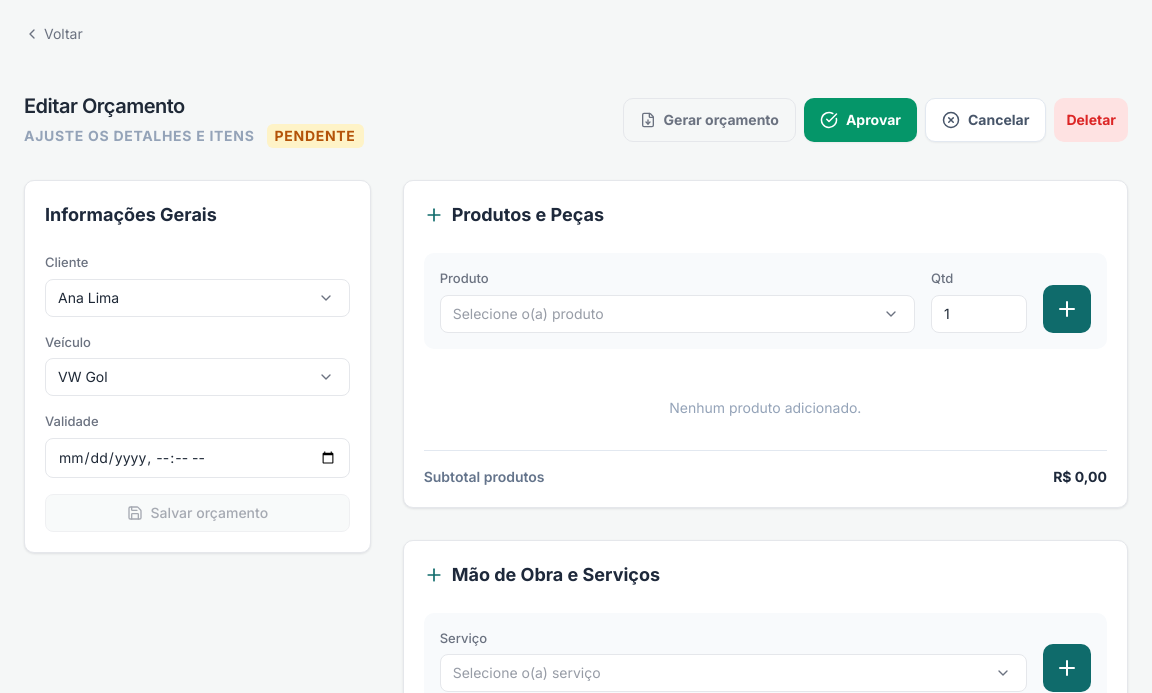
Test: <BudgetEdit> — aviso de estoque › no orçamento o aviso diz que nada é reservado ainda
The image size is (1152, 693).
Expected: the text "pendente" is shown, 266,124 -> 364,148
Click the dropdown with placeholder "Selecione o(a) produto" at (677, 314), box 440,294 -> 915,332
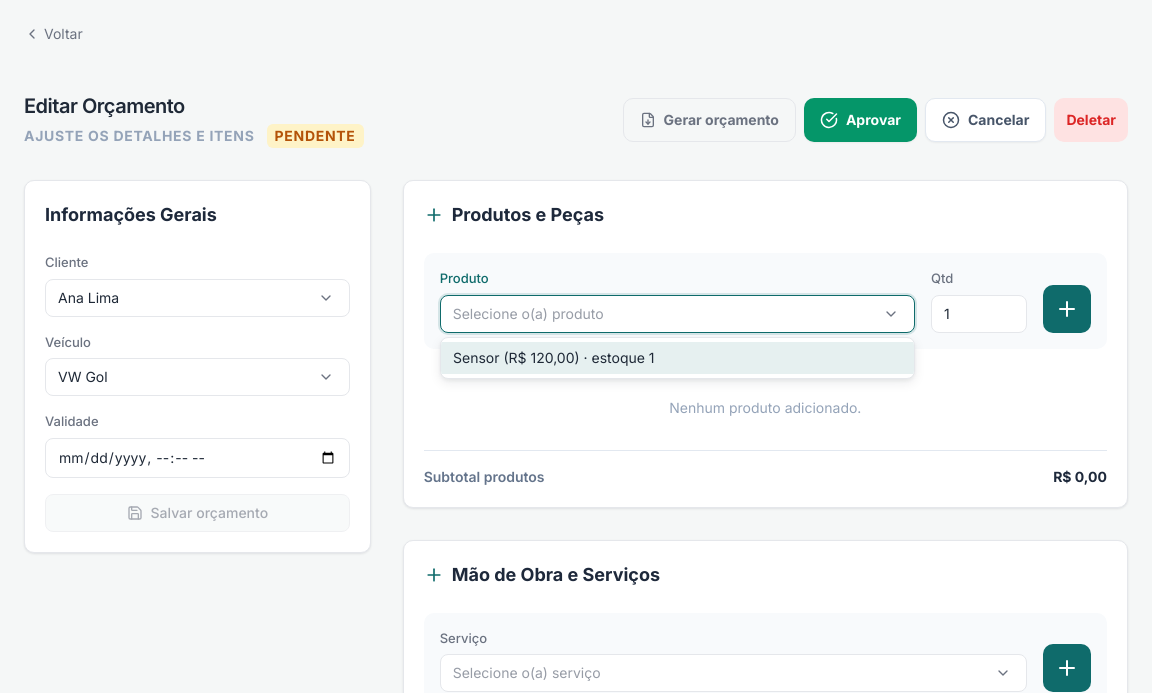
Click the option "Sensor (R$ 120,00) · estoque 1" at (554, 358), box 441,342 -> 914,374
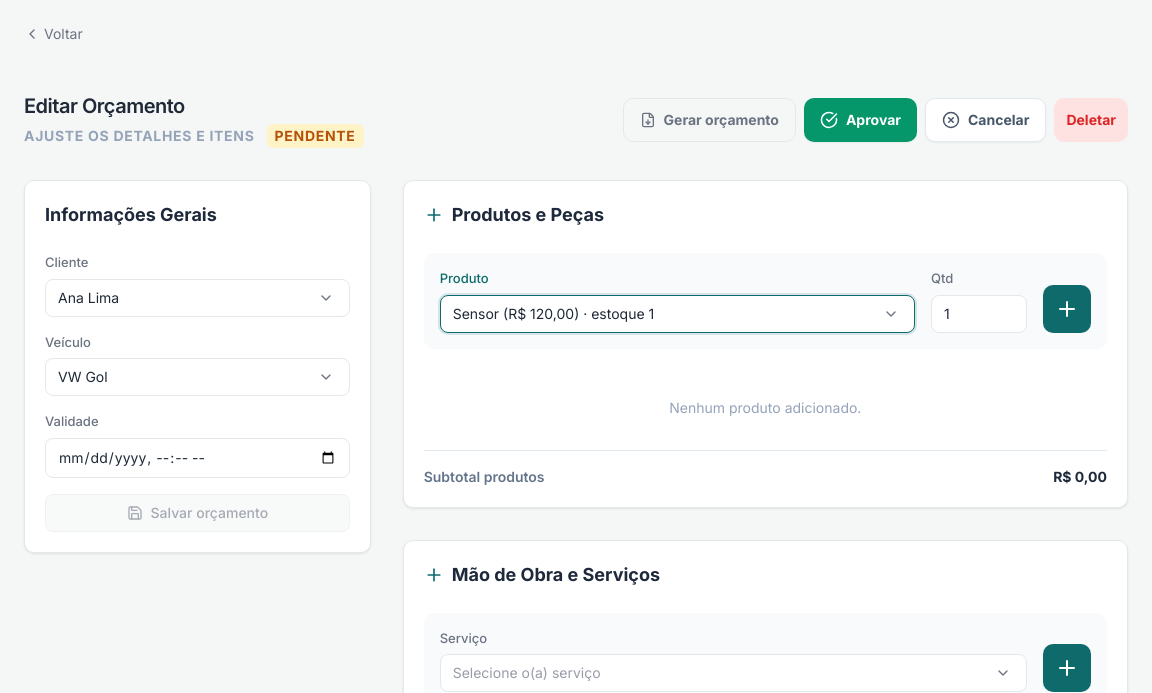
Replace the text in the number field labelled "Qtd" with "3" at (979, 314), box 931,294 -> 1027,332
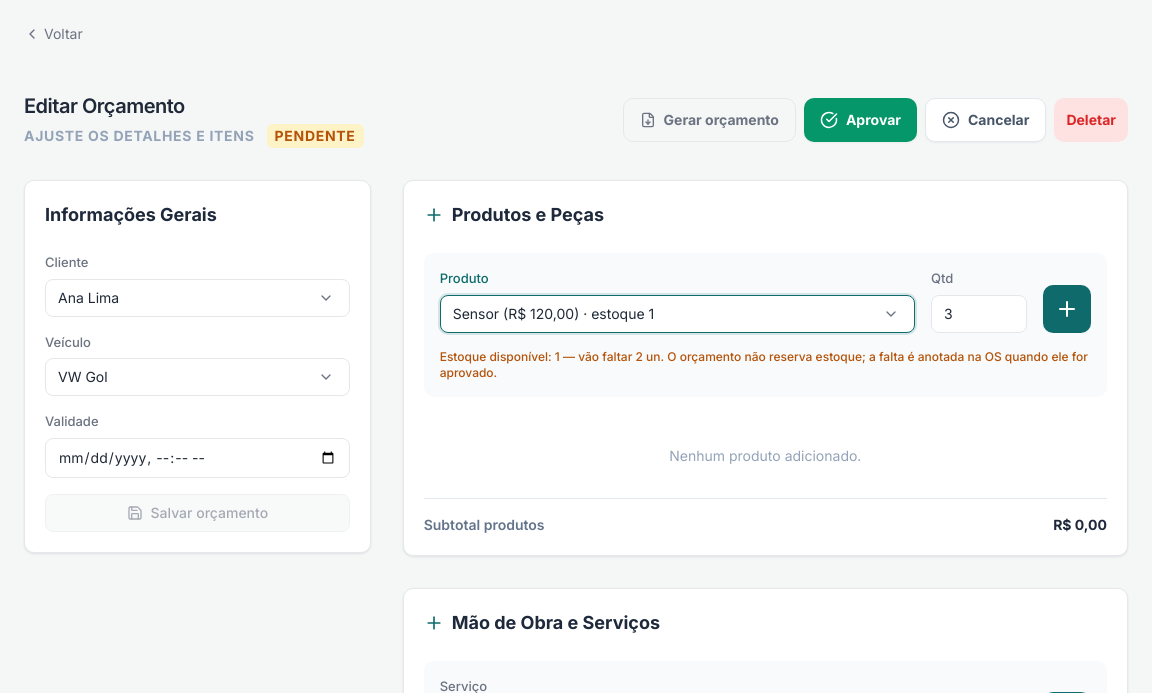
Expected: the message does not show "fica anotada para comprar", 440,348 -> 1091,380
Now the message shows "O orçamento não reserva estoque; a falta é anotada na OS quando ele for aprovado.", box 440,348 -> 1088,380
